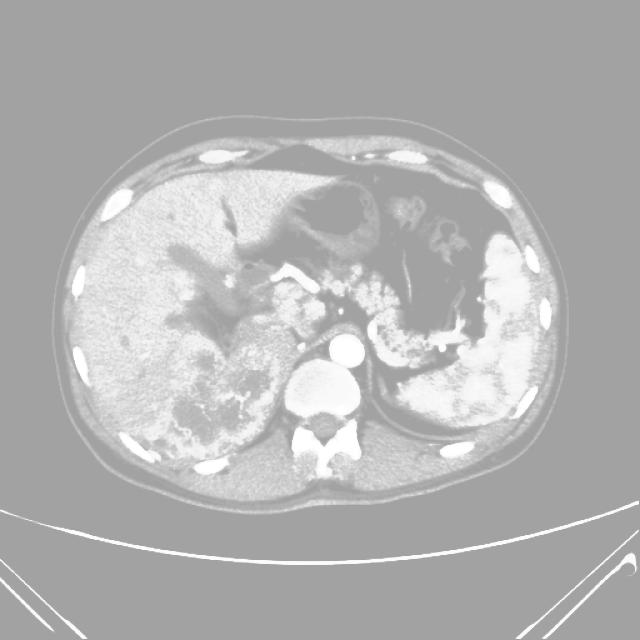TUMOR: (186, 189, 549, 466)
